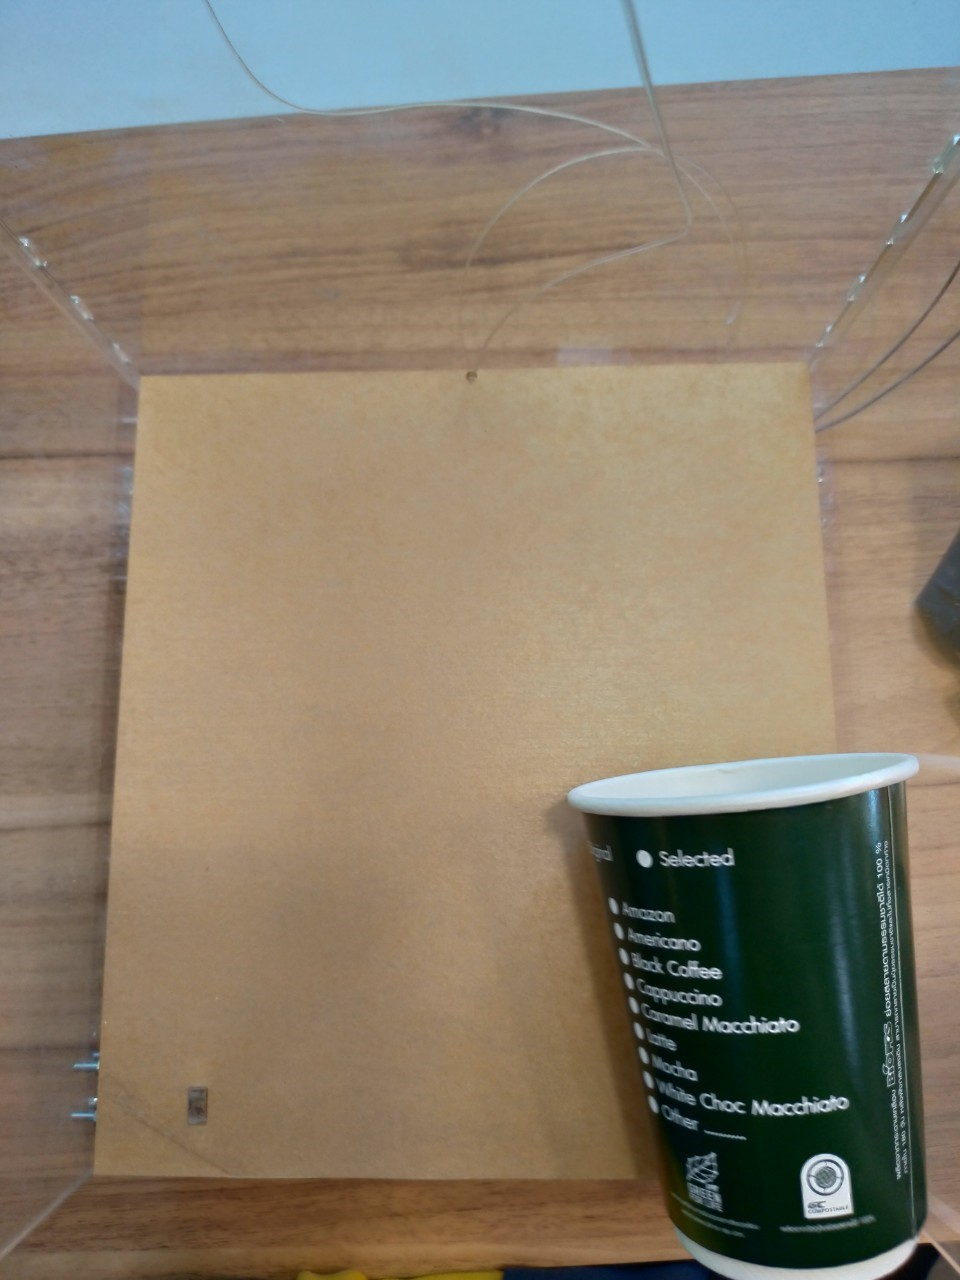PaperCup: (569, 749, 931, 1268)
